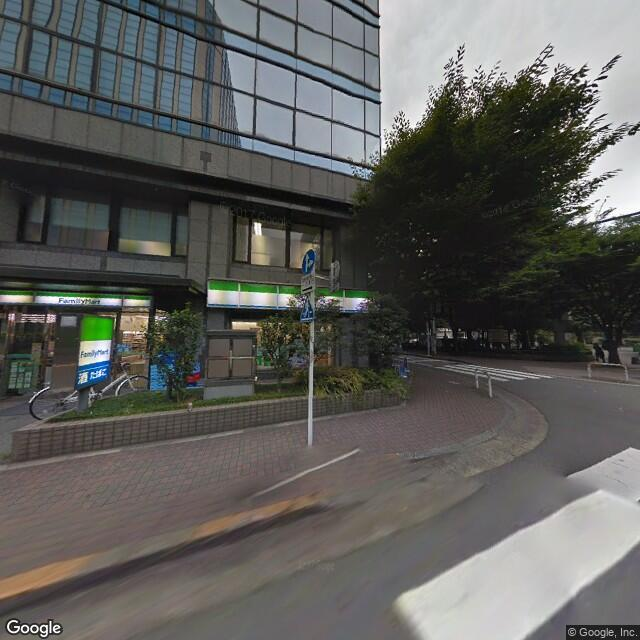family_mart: (204, 276, 381, 315), (1, 285, 151, 312), (72, 309, 115, 393)
